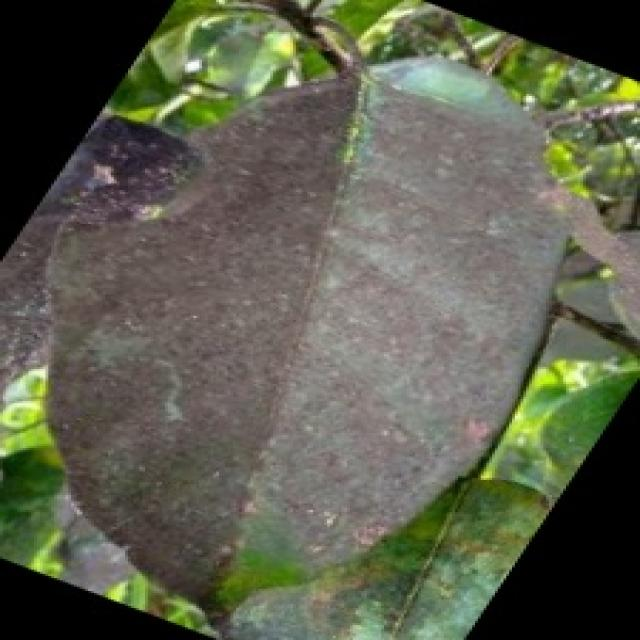Sooty Mold: (39, 53, 574, 610)
